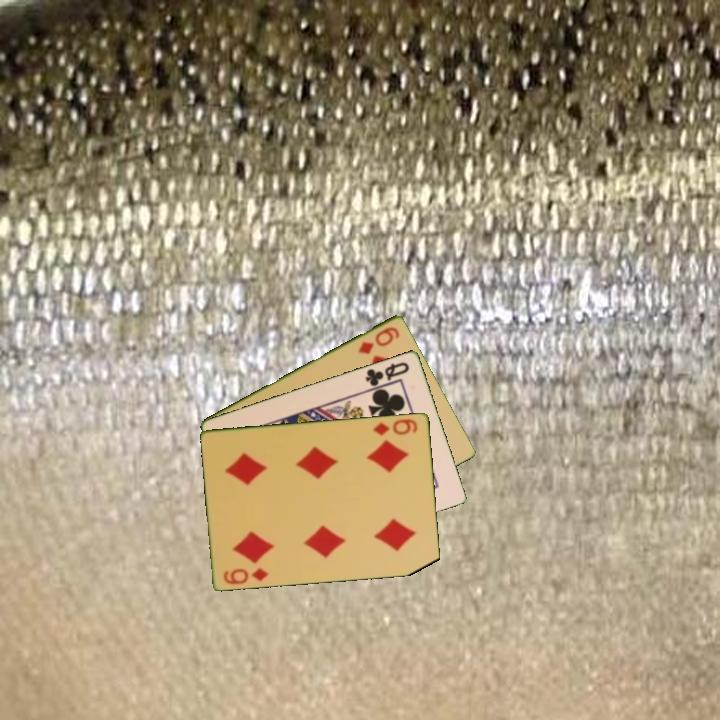6d: (355, 323, 403, 357), (220, 564, 272, 587), (370, 415, 420, 438)
Qc: (362, 358, 412, 392)
